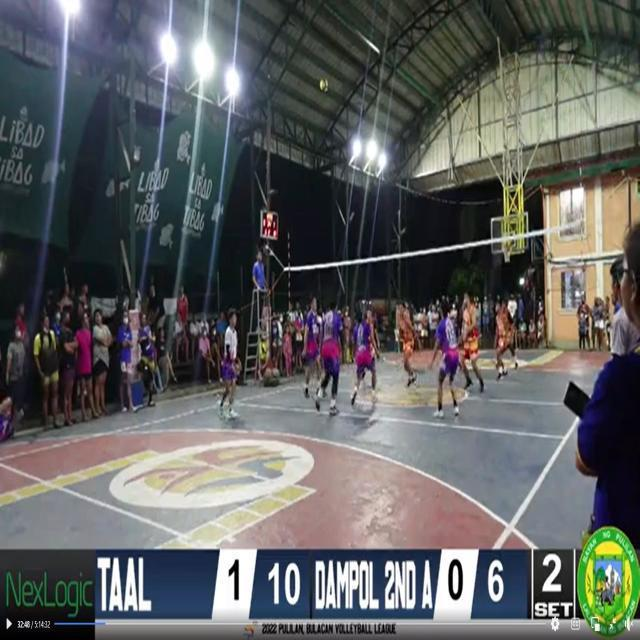volleyball: (320, 79, 330, 92)
